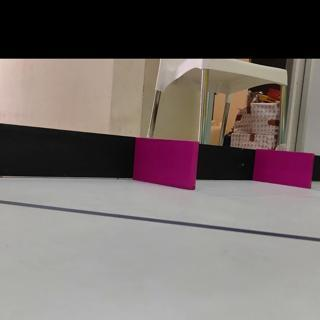xparking: (138, 141, 196, 188), (258, 151, 313, 186)
